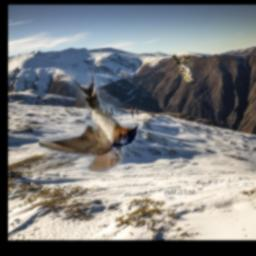Sparrow: (171, 52, 193, 82)
Swallow: (37, 67, 137, 173)
